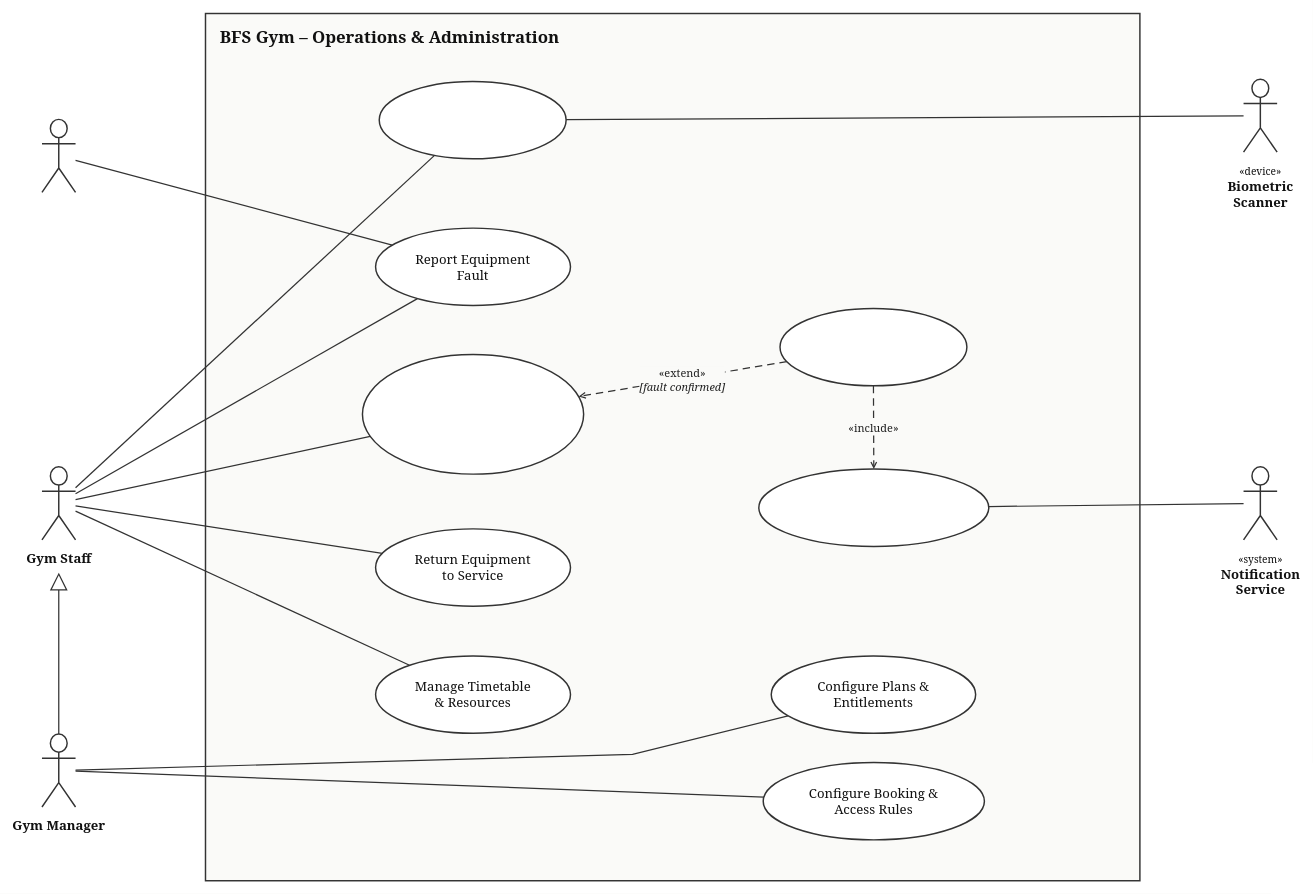
This 1313x894 diagram has some shape labels left out. The box of each missing label's shape, as (x1, y1, x2, y2) in pixels:
Enrol Biometric Profile: (378, 80, 566, 159)
Member: (41, 118, 76, 193)
Reallocate or Cancel Affected Bookings: (758, 468, 989, 547)
Review Fault Report extension points fault confirmed: (361, 353, 584, 474)
Take Equipment Out of Service: (779, 307, 967, 386)
